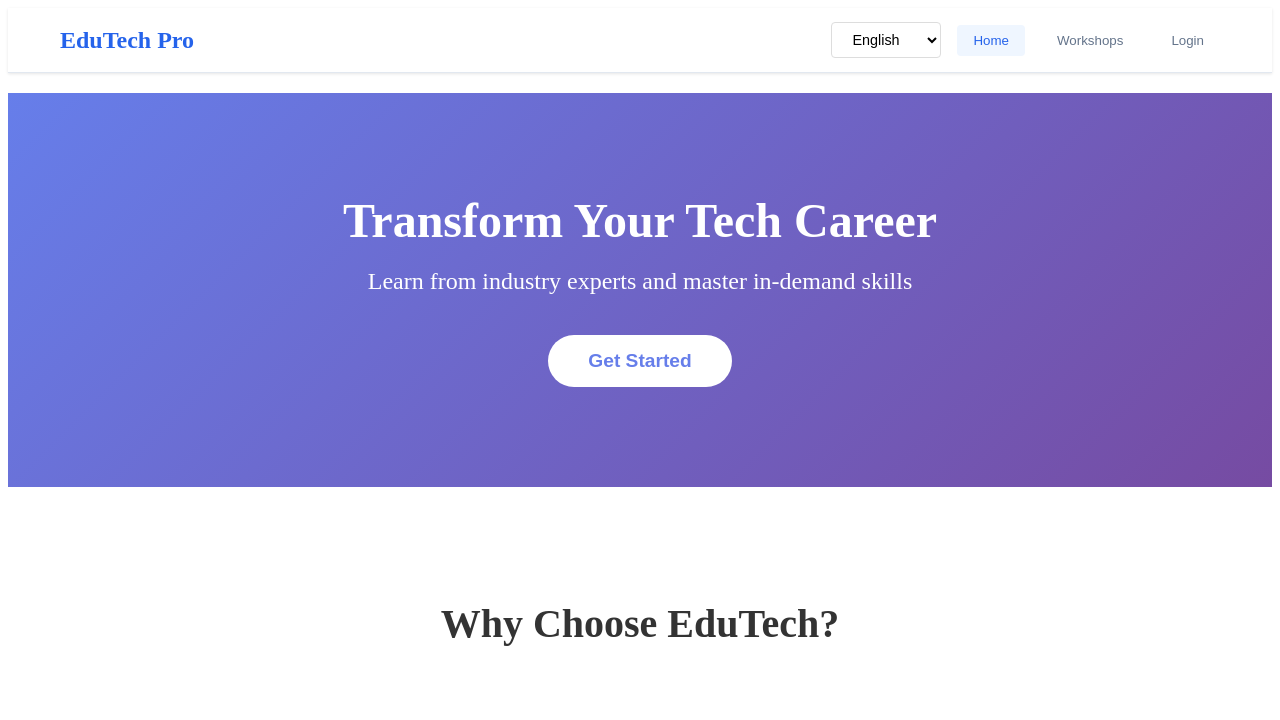
it: Authentication › should show dashboard after login
Click the button "Login" at (1188, 41), box [1155,25,1220,56]
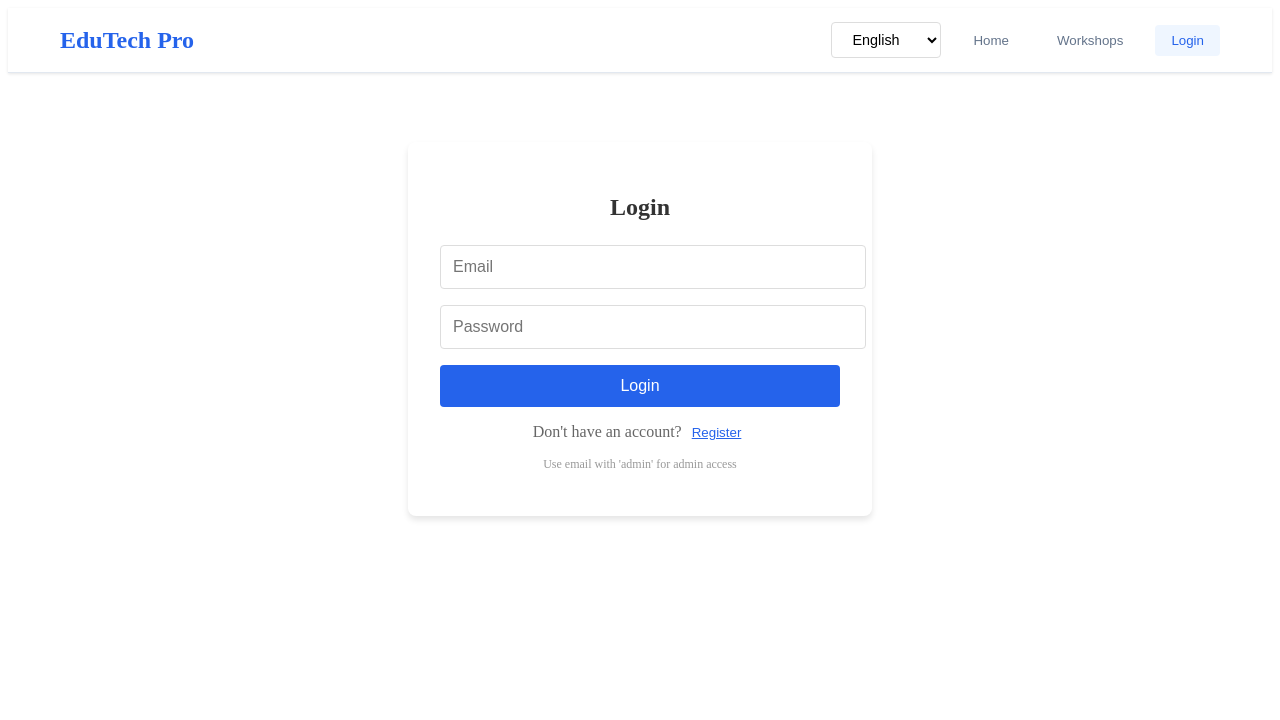
Type "user@example.com" into the field with placeholder "Email" at (653, 267), box [440,245,866,289]
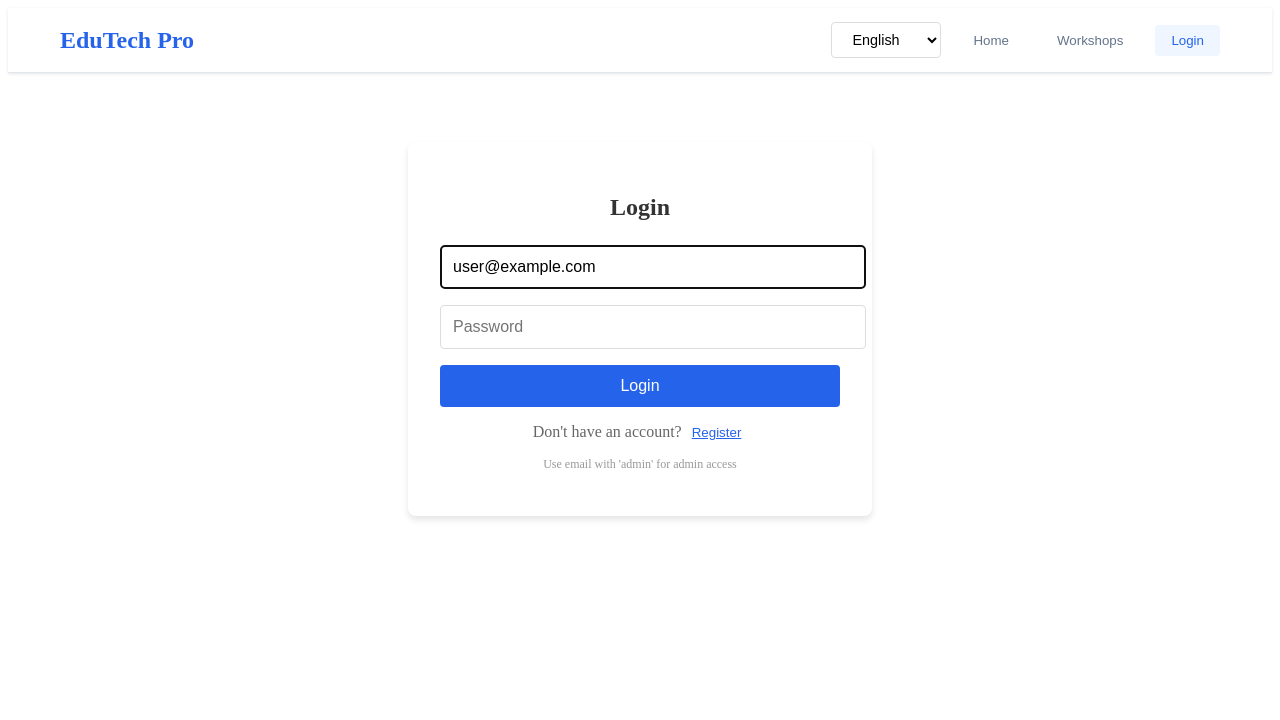
Type "password" into the password field with placeholder "Password" at (653, 327), box [440,305,866,349]
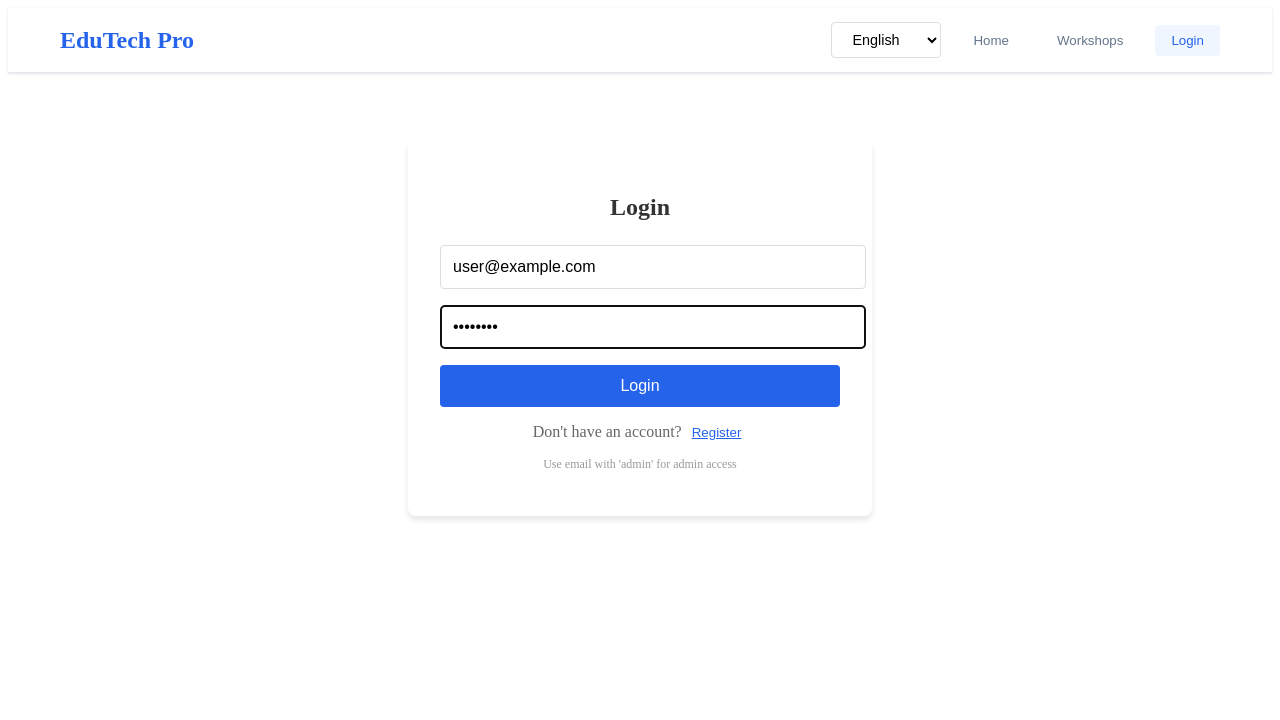
Click the submit button at (640, 386), box [440,365,840,407]
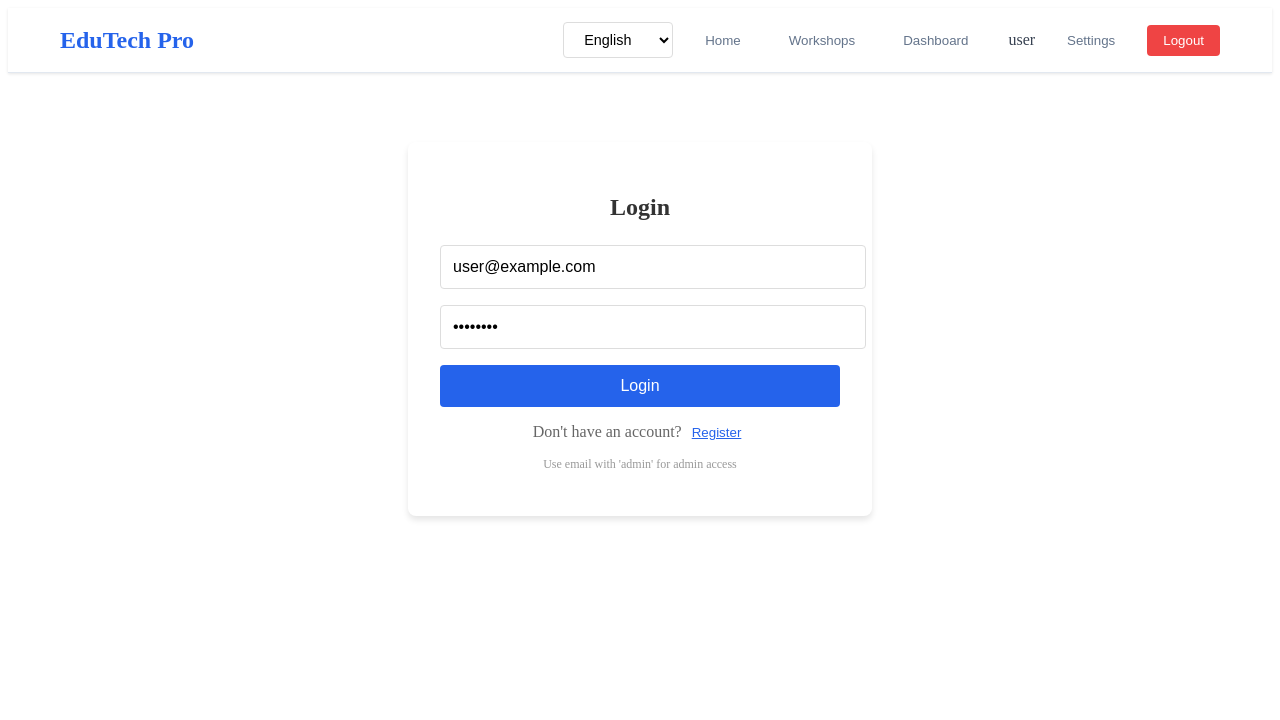
Click the button "Dashboard" at (936, 41), box [887,25,984,56]
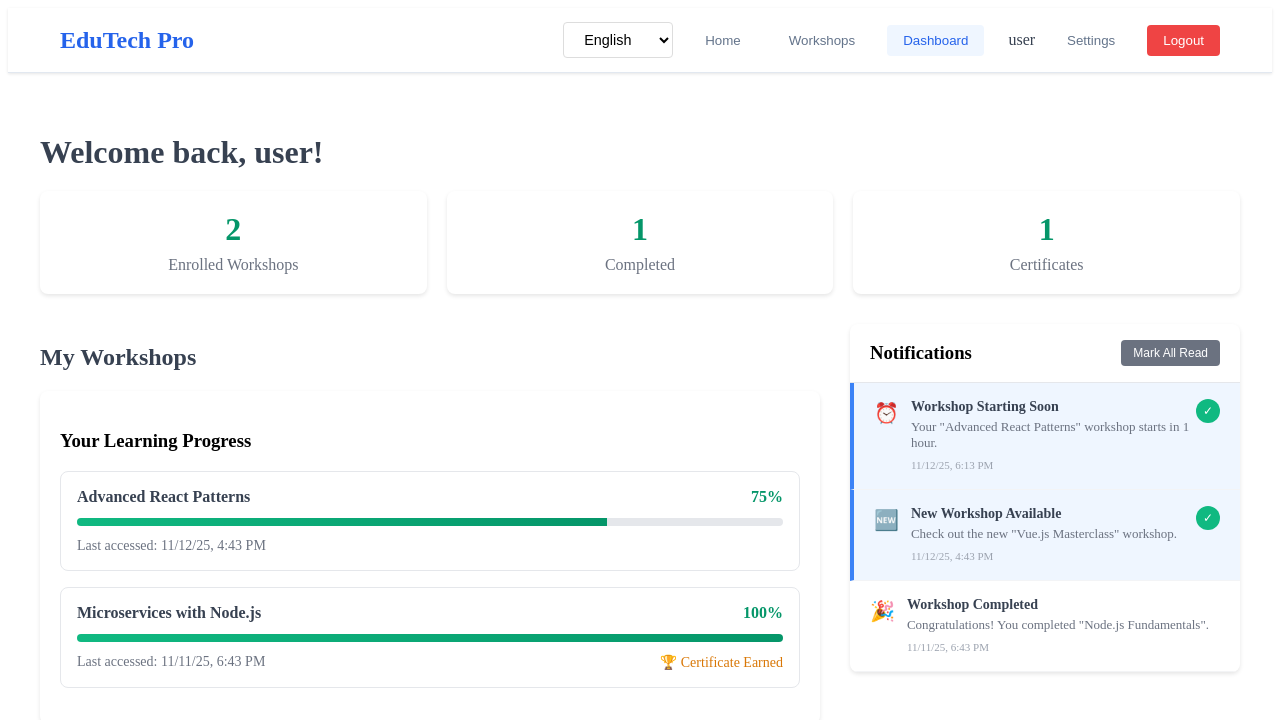
expect the element with class "dashboard-container" is shown: met
